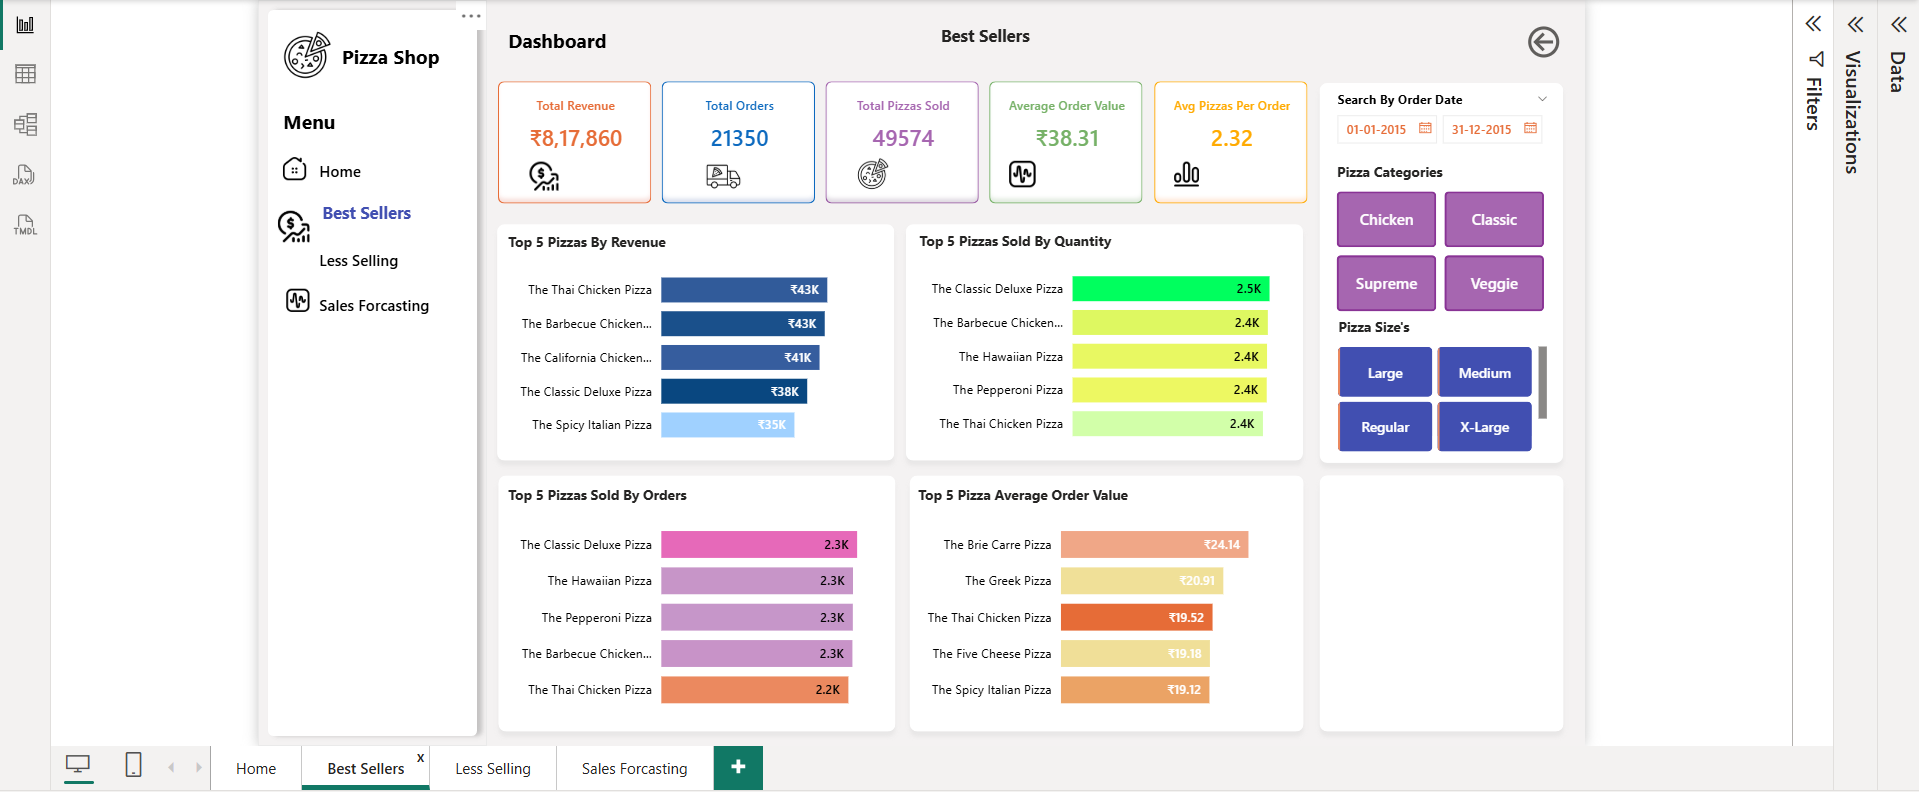

The page's visual inventory and layout, read from the dashboard file:
{"tool":"powerbi","page":{"name":"Best Sellers","canvas":[1280,720],"ordinal":1},"visuals":[{"type":"shape","box":[0,0,221,720],"z":0},{"type":"textbox","box":[76,37,122,37],"z":1000},{"type":"image","box":[19,23,57,60],"z":2000},{"type":"textbox","box":[236.2,21.2,150,37.5],"z":3000},{"type":"cardVisual","fields":{"Data":["pizza_sales.Total Revenue"]},"box":[227.4,73.6,158.2,128.4],"z":4000,"group":"g1"},{"type":"shape","box":[223,450,401,265],"z":4000},{"type":"cardVisual","fields":{"Data":["pizza_sales.Total Orders"]},"box":[385.6,73.6,158.2,128.4],"z":5000,"group":"g1"},{"type":"shape","box":[620,450,398,265],"z":5000},{"type":"cardVisual","fields":{"Data":["pizza_sales.Avg Order Value"]},"box":[702,73.6,158.2,128.4],"z":6000,"group":"g1"},{"type":"group","id":"g1","title":"Group 1","box":[227.4,73.6,791.1,128.4],"z":6000},{"type":"cardVisual","fields":{"Data":["pizza_sales.Total Pizzas Sold"]},"box":[543.6,73.6,158.2,128],"z":7000,"group":"g1"},{"type":"shape","box":[1016.4,70.9,252.7,384.5],"z":7000},{"type":"cardVisual","fields":{"Data":["pizza_sales.Avg Pizza Per Order"]},"box":[860.2,73.6,158.2,128.4],"z":8000,"group":"g1"},{"type":"slicer","fields":{"Values":["pizza_sales.order_date"]},"box":[1029.2,83.3,228.3,100.8],"z":8000},{"type":"textbox","box":[19,100,150,38],"z":9000},{"type":"image","box":[19.2,146,32.4,33.6],"z":10000},{"type":"pageNavigator","box":[59.1,143.6,146,162.9],"z":11000},{"type":"shape","box":[1016,450,253,265],"z":12000},{"type":"advancedSlicerVisual","title":"Pizza Categories","fields":{"Values":["pizza_sales.pizza_category"]},"box":[1035.8,156.7,211.7,150],"z":13000},{"type":"advancedSlicerVisual","title":"Pizza Size''s","fields":{"Values":["pizza_sales.pizza_size"]},"box":[1037.5,305.8,211.7,134.2],"z":14000},{"type":"image","box":[14.5,190.6,39.8,56.7],"z":15000},{"type":"image","box":[14.5,273.9,48.3,32.6],"z":16000},{"type":"actionButton","box":[1221.2,20,47.5,40],"z":17000},{"type":"shape","box":[222,207,401,246],"z":18000},{"type":"shape","box":[617,207,401,246],"z":19000},{"type":"barChart","title":"Top 5 Pizzas By Revenue","fields":{"Category":["pizza_sales.pizza_name"],"Y":["pizza_sales.Total Revenue"]},"box":[236,224,372,217],"z":20000},{"type":"barChart","title":"Top 5 Pizzas Sold By Quantity ","fields":{"Category":["pizza_sales.pizza_name"],"Y":["pizza_sales.Total Pizzas Sold"]},"box":[633,223,372,217],"z":21000},{"type":"barChart","title":"Top 5 Pizzas Sold By Orders","fields":{"Category":["pizza_sales.pizza_name"],"Y":["pizza_sales.Total Orders"]},"box":[236,468,372,231],"z":22000},{"type":"barChart","title":"Top 5 Pizza Average Order Value","fields":{"Category":["pizza_sales.pizza_name"],"Y":["pizza_sales.Average Order Value"]},"box":[632,468,372,231],"z":23000},{"type":"textbox","box":[605,18,195,38],"z":24000}]}

Visuals, with their boxes on the page's 1280x720 design canvas (x1, y1, x2, y2). These are canvas units, not pixel positions in the 1919x792 screenshot, which may show the page scaled, cropped or inside an application window:
shape: pyautogui.locateOnScreen(0, 0, 221, 720)
textbox: pyautogui.locateOnScreen(76, 37, 198, 74)
image: pyautogui.locateOnScreen(19, 23, 76, 83)
textbox: pyautogui.locateOnScreen(236, 21, 386, 59)
cardVisual - pizza_sales.Total Revenue: pyautogui.locateOnScreen(227, 74, 386, 202)
shape: pyautogui.locateOnScreen(223, 450, 624, 715)
cardVisual - pizza_sales.Total Orders: pyautogui.locateOnScreen(386, 74, 544, 202)
shape: pyautogui.locateOnScreen(620, 450, 1018, 715)
cardVisual - pizza_sales.Avg Order Value: pyautogui.locateOnScreen(702, 74, 860, 202)
"Group 1" group: pyautogui.locateOnScreen(227, 74, 1018, 202)
cardVisual - pizza_sales.Total Pizzas Sold: pyautogui.locateOnScreen(544, 74, 702, 202)
shape: pyautogui.locateOnScreen(1016, 71, 1269, 455)
cardVisual - pizza_sales.Avg Pizza Per Order: pyautogui.locateOnScreen(860, 74, 1018, 202)
slicer - pizza_sales.order_date: pyautogui.locateOnScreen(1029, 83, 1258, 184)
textbox: pyautogui.locateOnScreen(19, 100, 169, 138)
image: pyautogui.locateOnScreen(19, 146, 52, 180)
pageNavigator: pyautogui.locateOnScreen(59, 144, 205, 306)
shape: pyautogui.locateOnScreen(1016, 450, 1269, 715)
"Pizza Categories" advancedSlicerVisual: pyautogui.locateOnScreen(1036, 157, 1248, 307)
"Pizza Size''s" advancedSlicerVisual: pyautogui.locateOnScreen(1038, 306, 1249, 440)
image: pyautogui.locateOnScreen(14, 191, 54, 247)
image: pyautogui.locateOnScreen(14, 274, 63, 306)
actionButton: pyautogui.locateOnScreen(1221, 20, 1269, 60)
shape: pyautogui.locateOnScreen(222, 207, 623, 453)
shape: pyautogui.locateOnScreen(617, 207, 1018, 453)
"Top 5 Pizzas By Revenue" barChart: pyautogui.locateOnScreen(236, 224, 608, 441)
"Top 5 Pizzas Sold By Quantity " barChart: pyautogui.locateOnScreen(633, 223, 1005, 440)
"Top 5 Pizzas Sold By Orders" barChart: pyautogui.locateOnScreen(236, 468, 608, 699)
"Top 5 Pizza Average Order Value" barChart: pyautogui.locateOnScreen(632, 468, 1004, 699)
textbox: pyautogui.locateOnScreen(605, 18, 800, 56)
